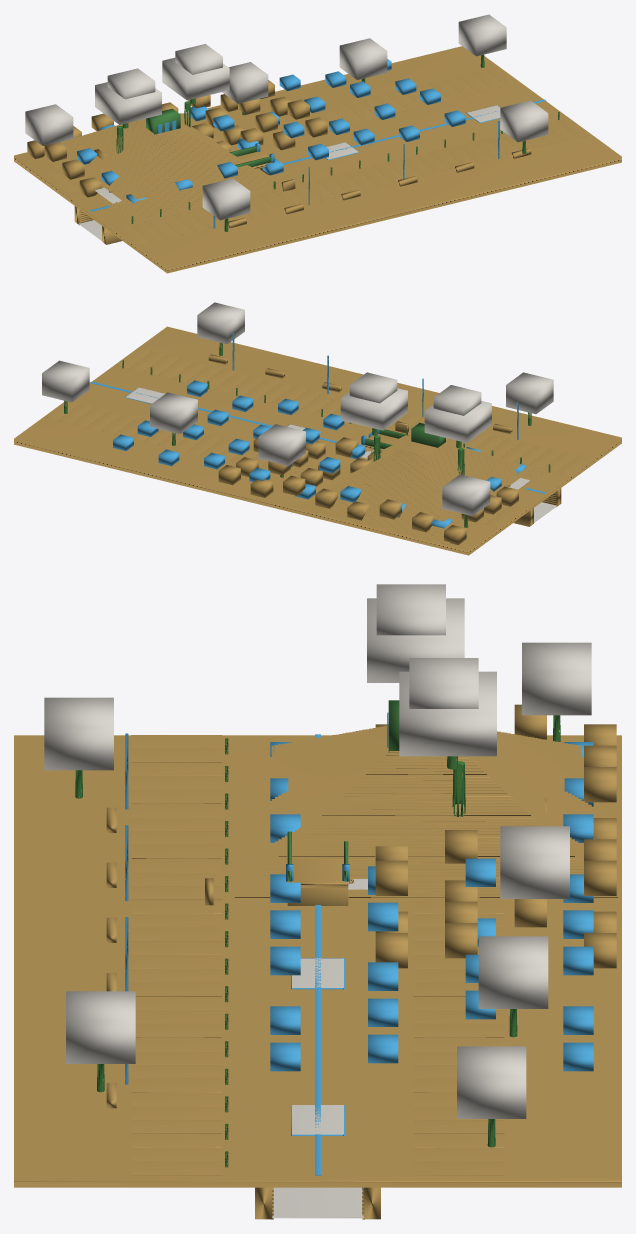
The picture shows the model from 3 angles, top to bottom: view 1: azimuth 30°, elevation 25°; view 2: azimuth 150°, elevation 25°; view 3: azimuth 270°, elevation 25°; orthographic projection. The views are drawn at different scales.
Parts seen in each view (by area): view 1: ongnyudong_granite_and_bridge, songseokwon_pines, ongnyudong_street, ongnyudong_clear_stream; view 2: ongnyudong_granite_and_bridge, songseokwon_pines, ongnyudong_street, ongnyudong_clear_stream; view 3: ongnyudong_granite_and_bridge, songseokwon_pines, ongnyudong_street, ongnyudong_clear_stream.
Boxes of the visible parts, bbox=[...] form: ongnyudong_granite_and_bridge: bbox=[14, 46, 621, 273]; songseokwon_pines: bbox=[25, 14, 548, 231]; ongnyudong_street: bbox=[44, 66, 591, 245]; ongnyudong_clear_stream: bbox=[79, 105, 500, 240]; ongnyudong_granite_and_bridge: bbox=[14, 326, 621, 555]; songseokwon_pines: bbox=[42, 302, 553, 528]; ongnyudong_street: bbox=[44, 332, 591, 527]; ongnyudong_clear_stream: bbox=[125, 387, 556, 522]; ongnyudong_granite_and_bridge: bbox=[14, 700, 621, 1219]; songseokwon_pines: bbox=[44, 584, 593, 1147]; ongnyudong_street: bbox=[106, 733, 504, 1175]; ongnyudong_clear_stream: bbox=[272, 878, 367, 1218].
Bounding box in the file's own units: 48 × 12.34 × 28.
Materials: 4 (4 with a texture image).
